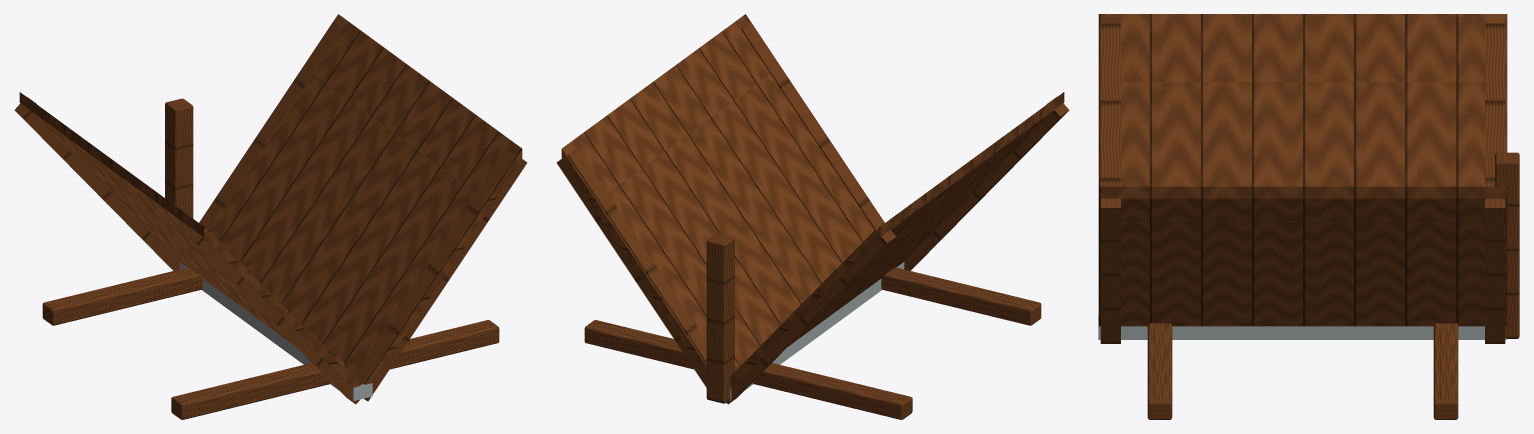
File: rural-scavenging-settlements-cross-gable-valley-92ad5359__26495.glb
3 renders of one model, left to right at view 1: azimuth 30°, elevation 25°; view 2: azimuth 150°, elevation 25°; view 3: azimuth 270°, elevation 25°, orthographic. The views are drawn at different scales.
Visible parts, largest first — view 1: cross-gable-valley; view 2: cross-gable-valley; view 3: cross-gable-valley.
Boxes of the visible parts, x1,y1,x2,y2 form: cross-gable-valley: (14, 14, 527, 419); cross-gable-valley: (556, 14, 1069, 419); cross-gable-valley: (1098, 14, 1519, 419).
Size of the model in its own units: 2.08 by 1.3 by 2.06.
Materials: 2 (1 with a texture image).
